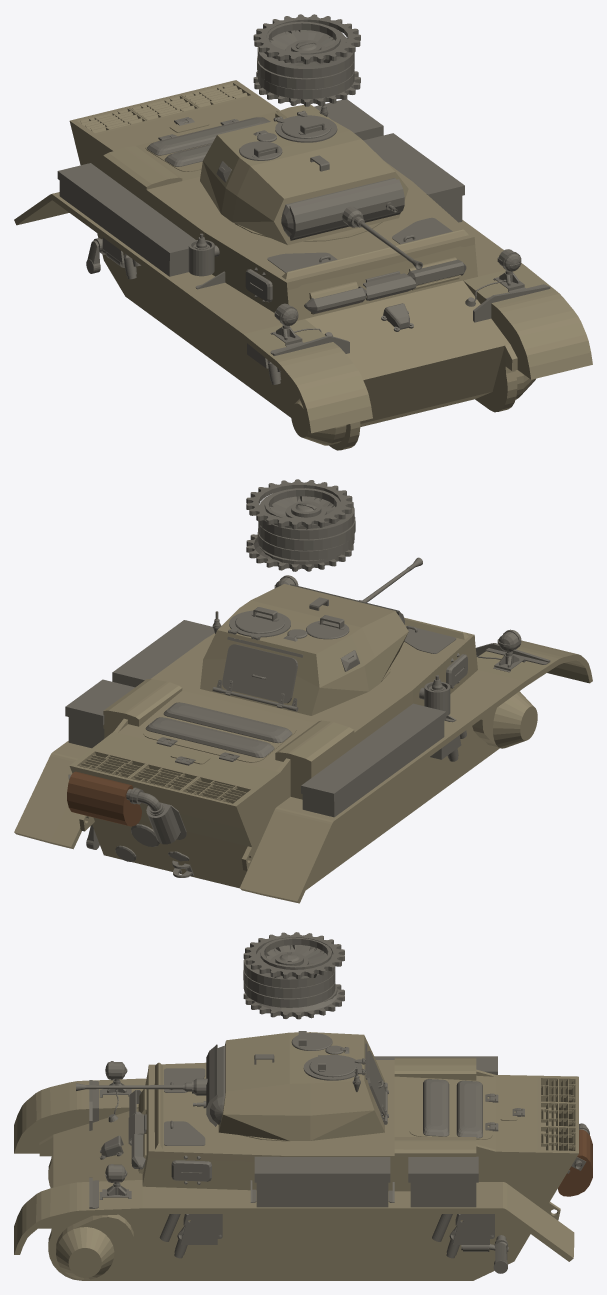
File: luchs_test.fbx
The picture shows the model from 3 angles, top to bottom: view 1: azimuth 30°, elevation 25°; view 2: azimuth 150°, elevation 25°; view 3: azimuth 270°, elevation 25°; orthographic projection. The views are drawn at different scales.
Parts seen in each view (by area): view 1: Hull, Turret, Mantlet, RoadWheelOut, Sprocket, RoadWheelIn, Idler; view 2: Hull, Turret, RoadWheelOut, Sprocket, Idler, RoadWheelIn; view 3: Hull, Turret, Sprocket, RoadWheelOut, Mantlet, Idler, RoadWheelIn, Barrel.
Boxes of the visible parts, left/top/right/bottom form: Hull: left=14, top=80, right=592, bottom=450; Turret: left=200, top=102, right=408, bottom=244; Mantlet: left=281, top=178, right=404, bottom=240; RoadWheelOut: left=257, top=30, right=354, bottom=99; Sprocket: left=253, top=14, right=360, bottom=106; RoadWheelIn: left=257, top=56, right=354, bottom=89; Idler: left=262, top=21, right=346, bottom=91; Hull: left=14, top=575, right=592, bottom=903; Turret: left=200, top=584, right=408, bottom=715; RoadWheelOut: left=257, top=496, right=354, bottom=560; Sprocket: left=246, top=479, right=353, bottom=571; Idler: left=259, top=488, right=343, bottom=564; RoadWheelIn: left=258, top=517, right=355, bottom=550; Hull: left=14, top=1056, right=592, bottom=1280; Turret: left=218, top=1031, right=388, bottom=1140; Sprocket: left=243, top=932, right=344, bottom=1019; RoadWheelOut: left=243, top=945, right=335, bottom=1007; Mantlet: left=184, top=1044, right=225, bottom=1126; Idler: left=256, top=937, right=337, bottom=1001; RoadWheelIn: left=243, top=969, right=335, bottom=998; Barrel: left=76, top=1083, right=184, bottom=1090.
Bounding box in the file's own units: 260 × 269 × 487.
